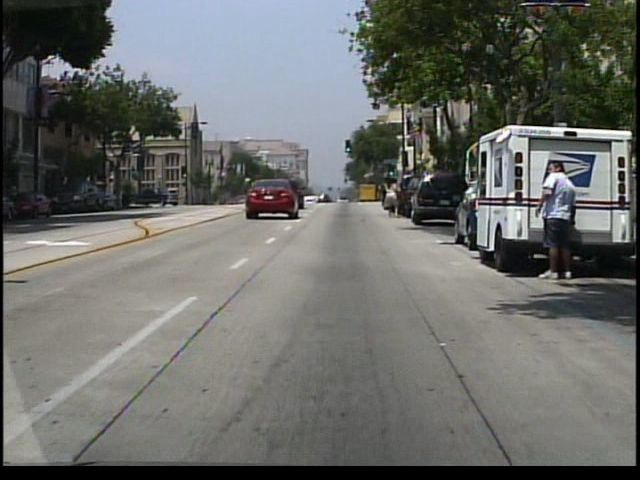person: (533, 162, 581, 282), (382, 172, 403, 220)
